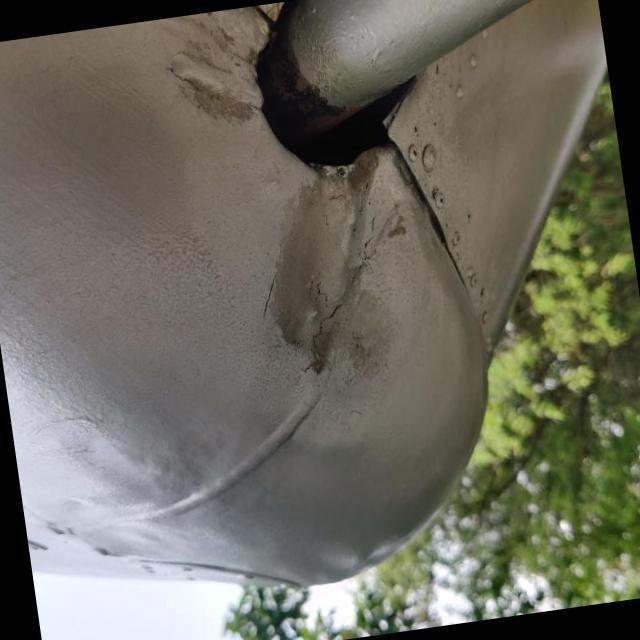dent: (263, 147, 412, 381), (156, 5, 268, 120)
